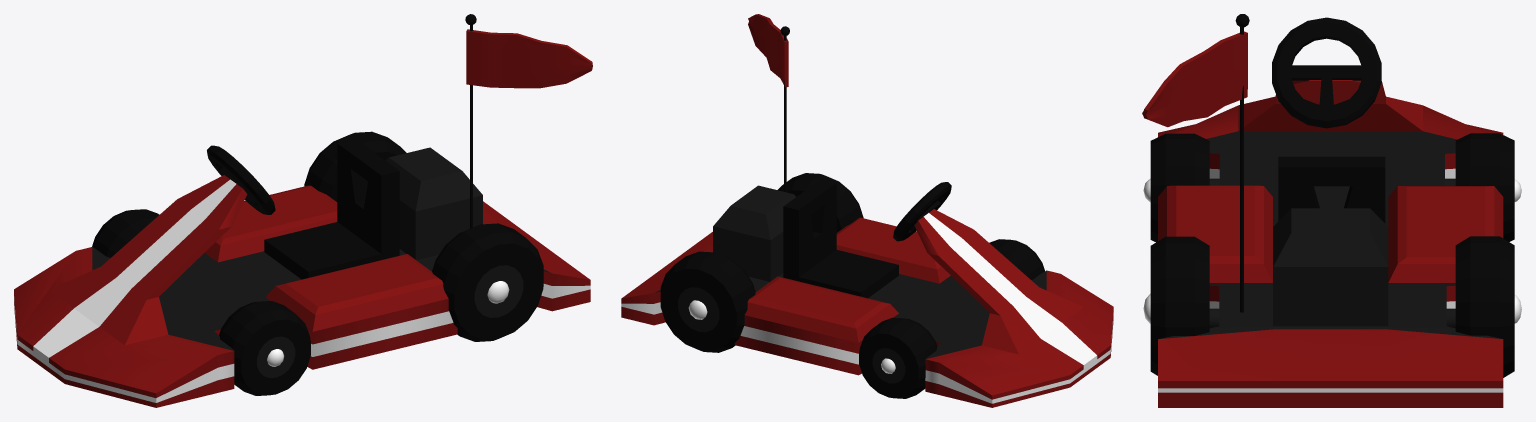
File: Men_accessory_Kart_3000.fbx
The picture shows the model from 3 angles, left to right: view 1: azimuth 30°, elevation 25°; view 2: azimuth 150°, elevation 25°; view 3: azimuth 270°, elevation 25°; orthographic projection. The views are drawn at different scales.
Visible parts, largest first — view 1: Box001; view 2: Box001; view 3: Box001.
Boxes of the visible parts, x1,y1,x2,y2 form: Box001: (14,14,592,407); Box001: (621,14,1113,407); Box001: (1142,14,1521,407).
Size of the model in its own units: 72.53 by 43.6 by 41.04.
